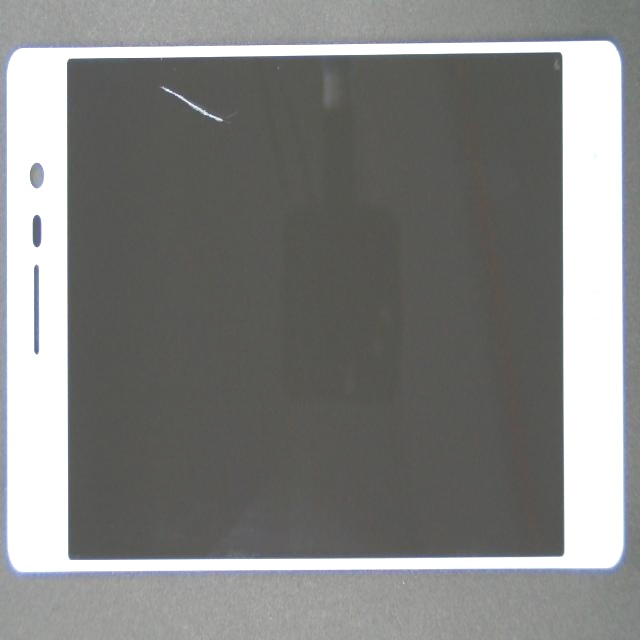scratch: (158, 79, 311, 150)
